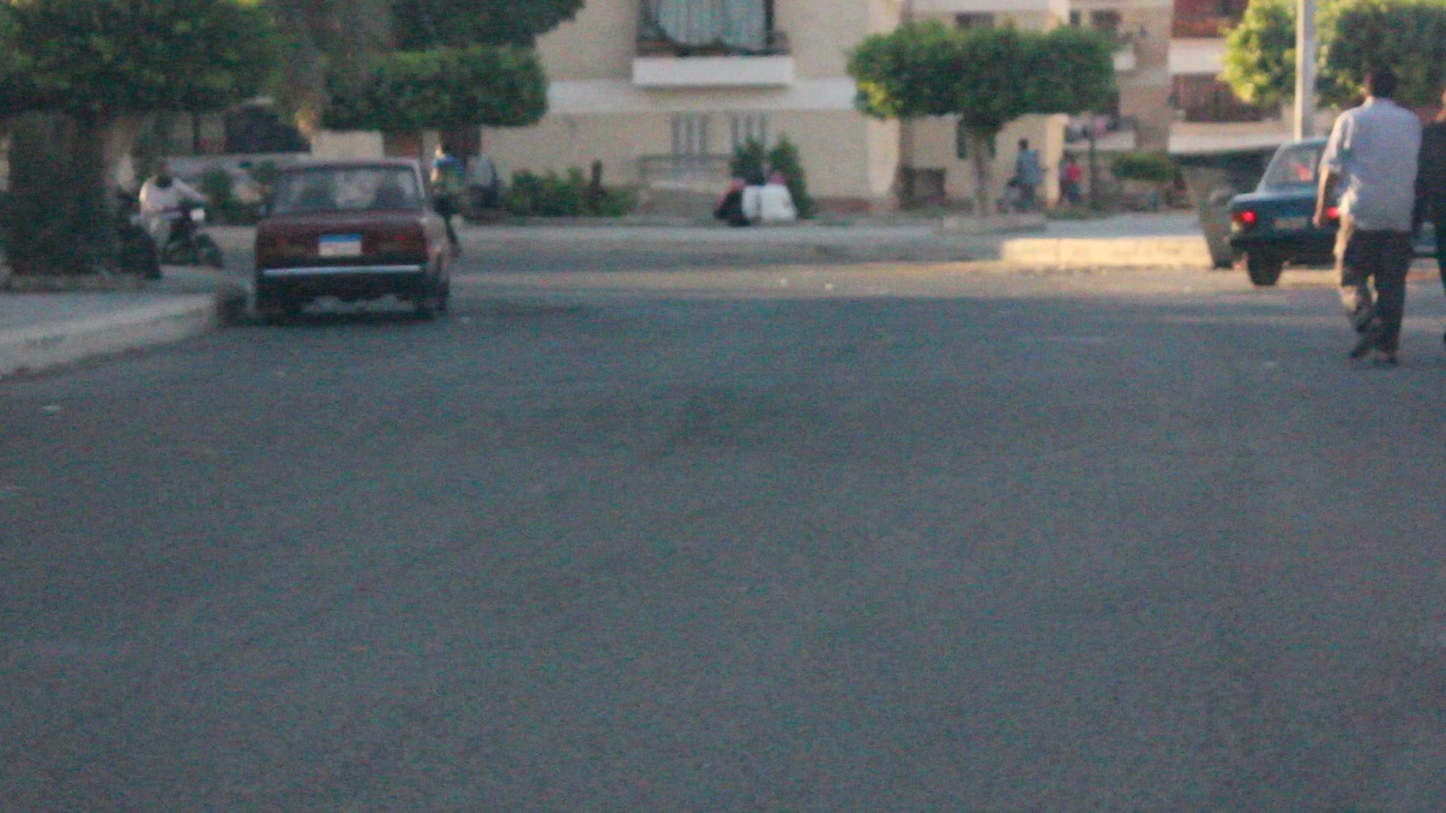Bump: (0, 375, 1446, 459)
